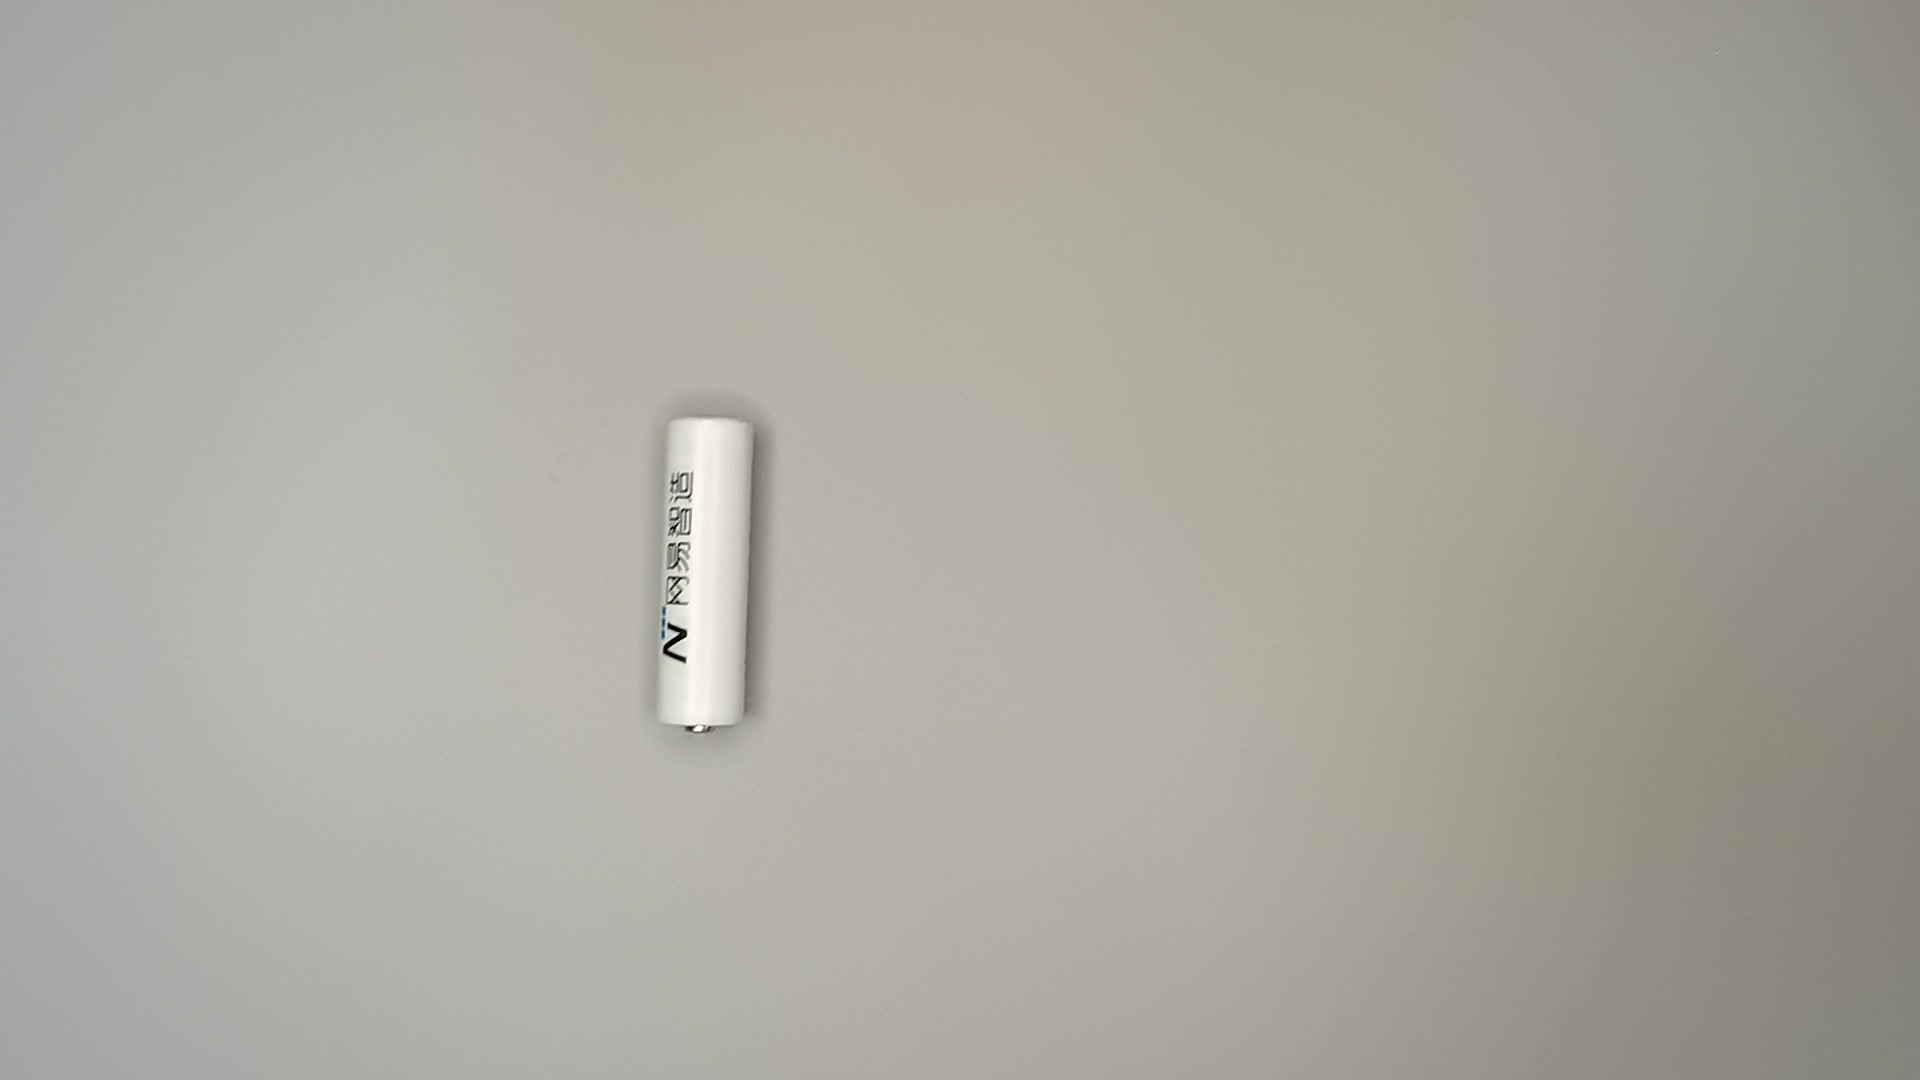battery: (645, 409, 769, 742)
